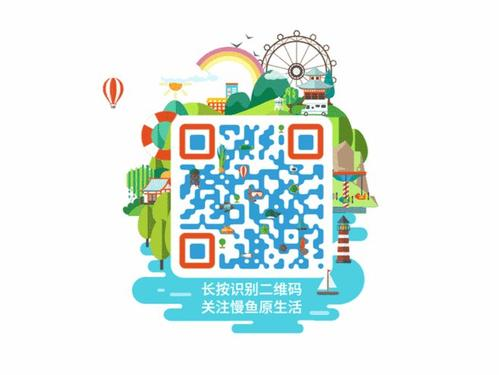QRCode: (176, 120, 325, 272)
